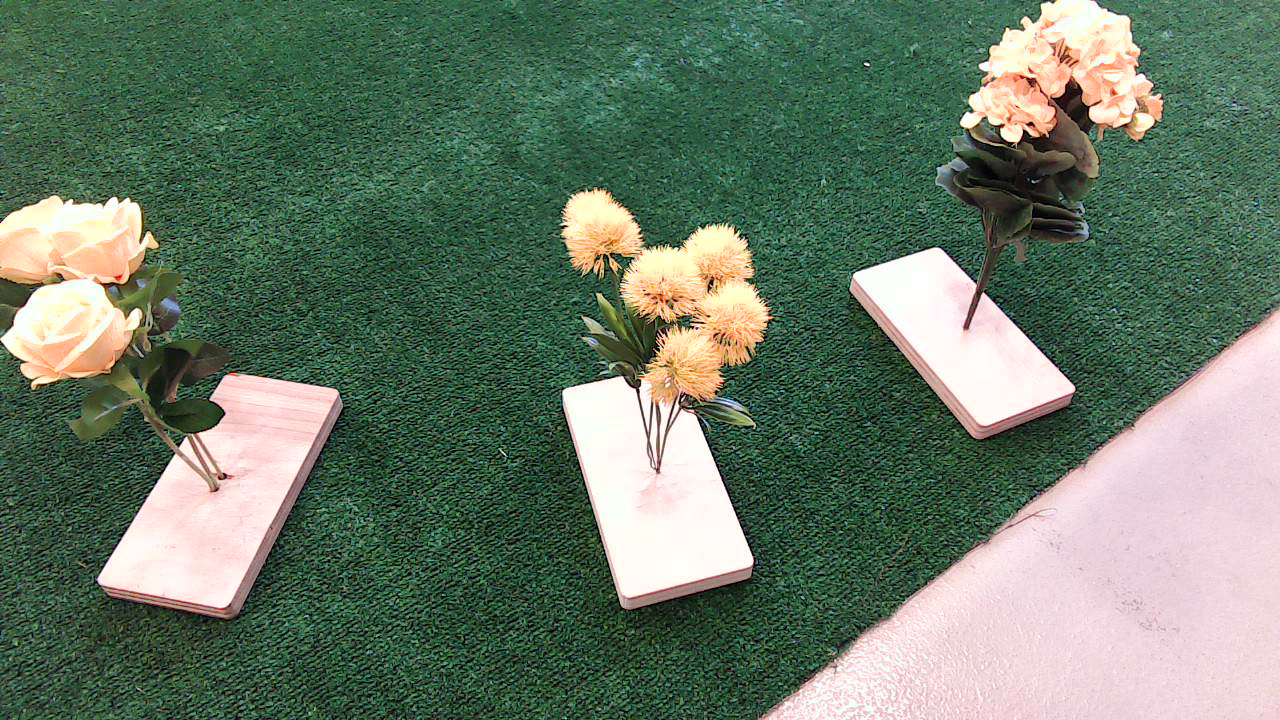dandelion: (526, 177, 795, 445)
geranium: (938, 9, 1178, 263)
rose: (1, 172, 255, 483)
